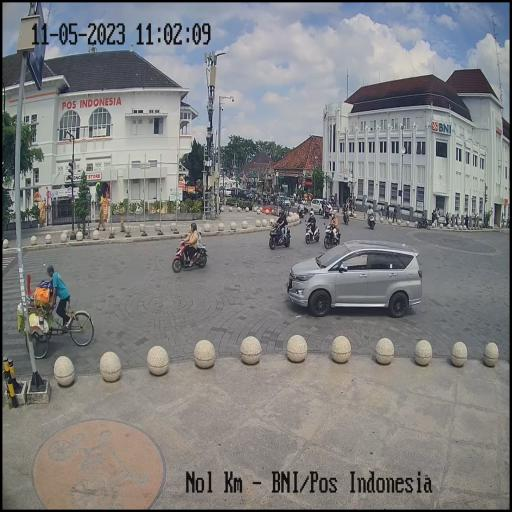mobil: (285, 240, 425, 322)
motor: (171, 233, 208, 273), (268, 219, 291, 253), (322, 219, 342, 249), (304, 218, 320, 244)
